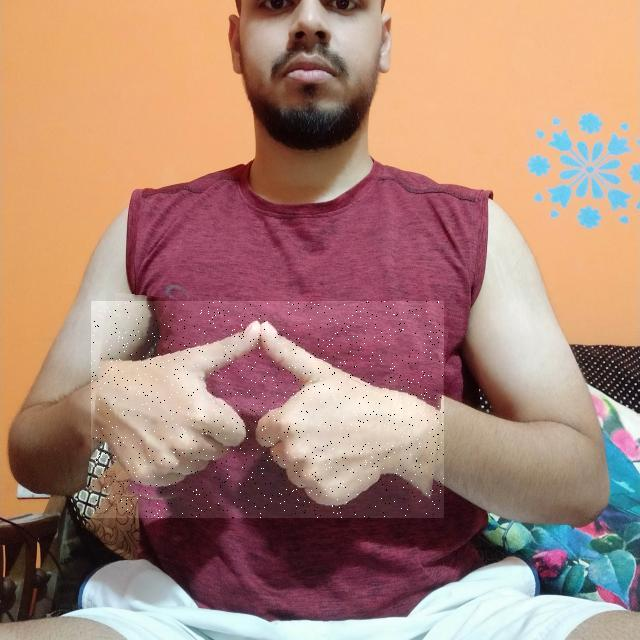A: (91, 301, 444, 518)
